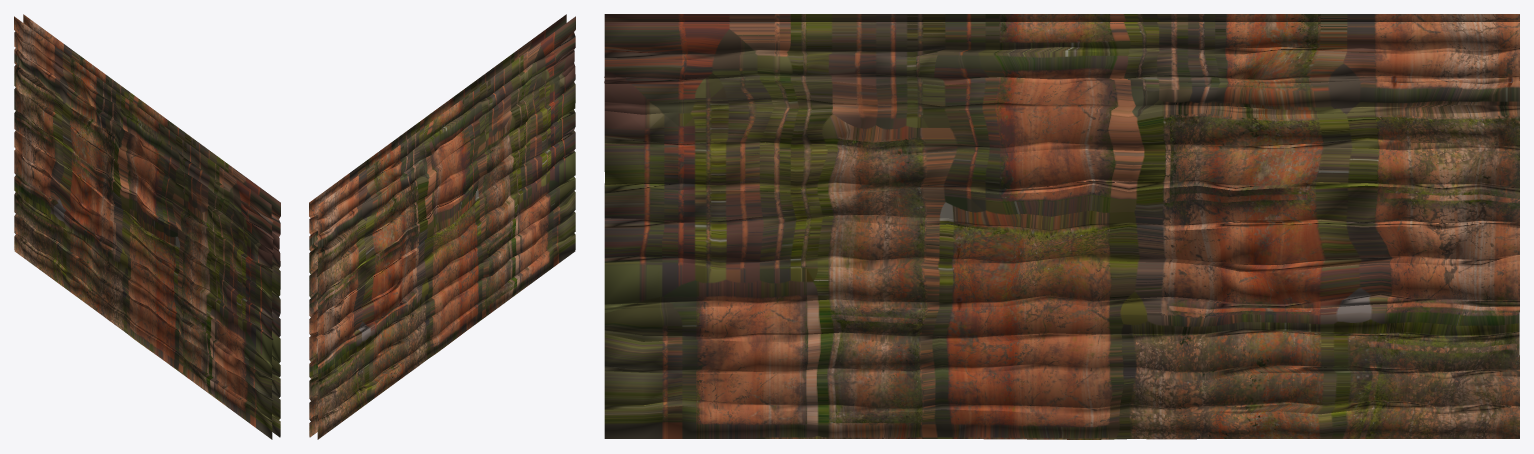
The model's file is WallFlat.fbx.
3 views of the same model, side by side, from view 1: azimuth 30°, elevation 25°; view 2: azimuth 150°, elevation 25°; view 3: azimuth 270°, elevation 25° (orthographic). The views are drawn at different scales.
Parts seen in each view (by area): view 1: WallwDoor; view 2: WallwDoor; view 3: WallwDoor.
Boxes of the visible parts, x1=… form: WallwDoor: x1=14, y1=14, x2=280, y2=439; WallwDoor: x1=309, y1=14, x2=575, y2=439; WallwDoor: x1=604, y1=14, x2=1519, y2=439.
Bounding box in the file's own units: 16.84 × 220 × 436.
